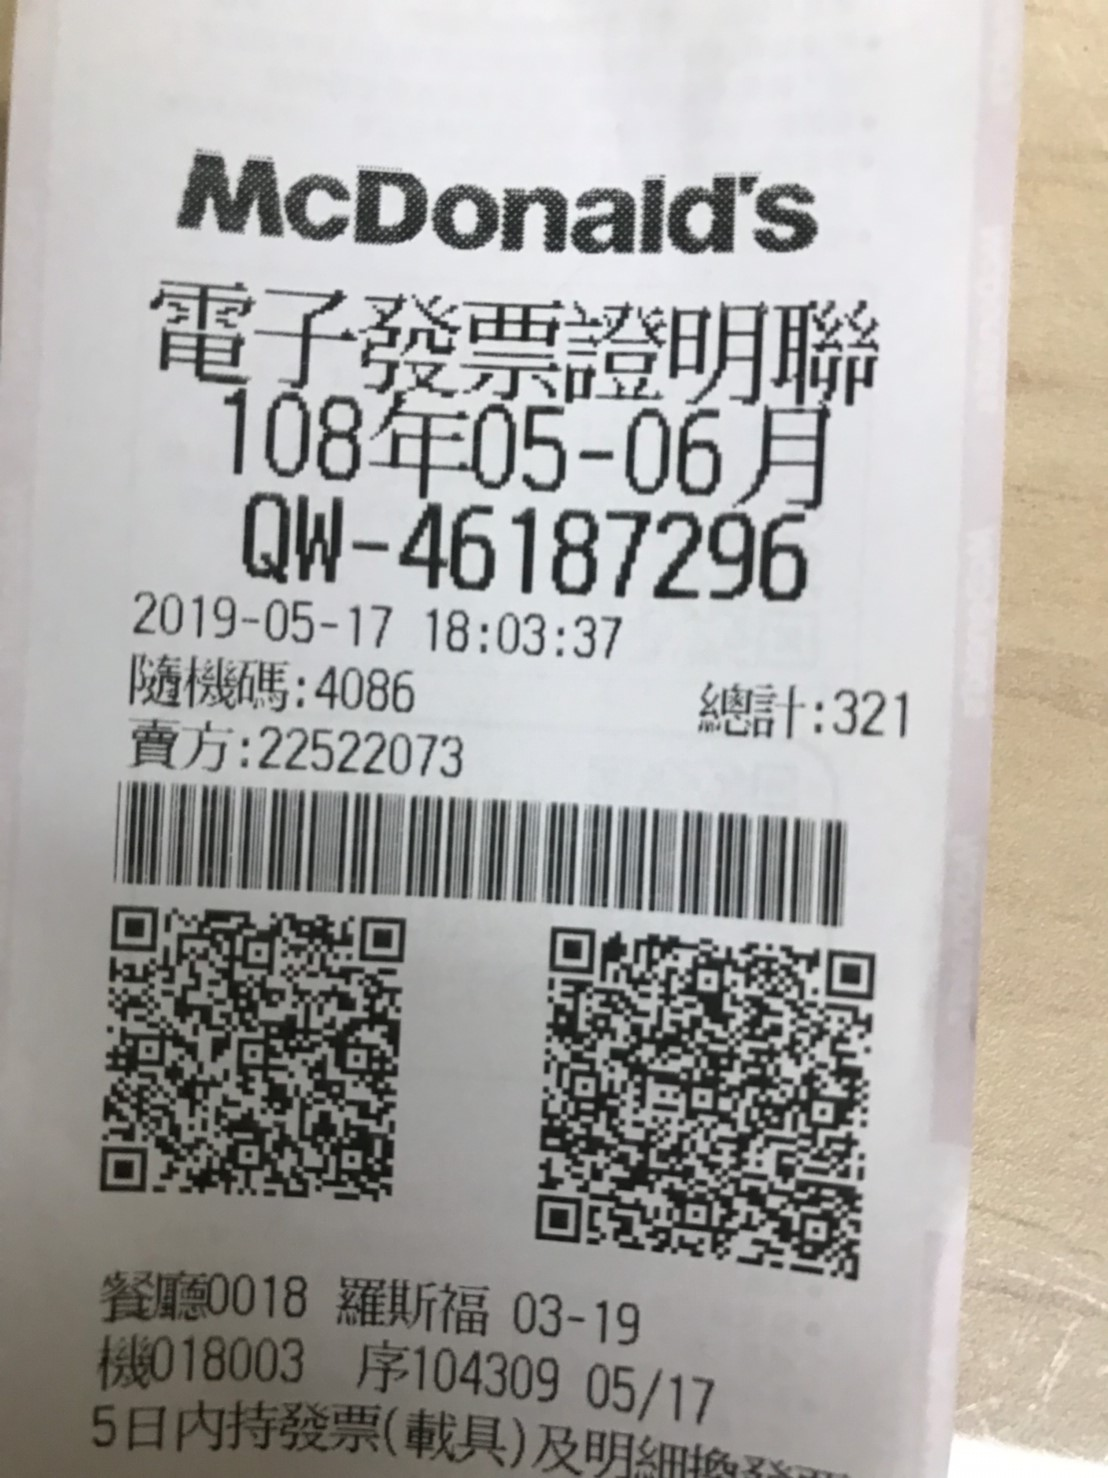Date_New: (225, 388, 830, 510)
Number_New: (393, 504, 812, 602)
